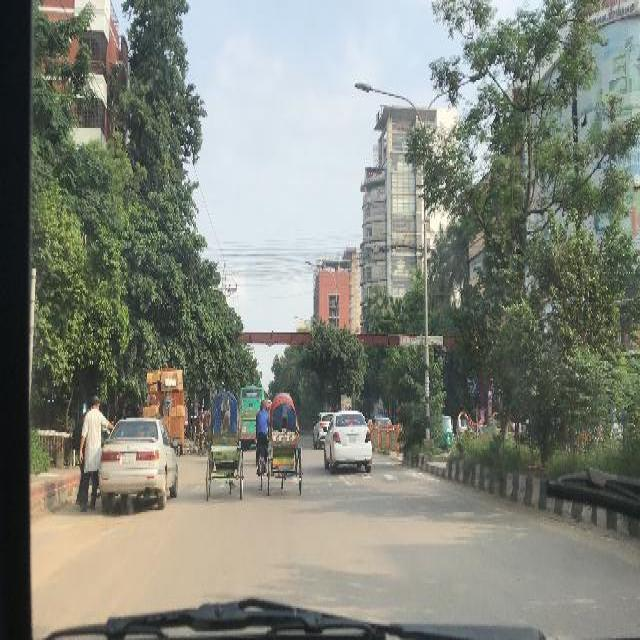bike: (257, 402, 267, 492)
vehicle: (102, 419, 179, 511), (268, 391, 303, 496), (208, 391, 239, 501), (330, 414, 373, 473), (241, 384, 258, 450), (440, 413, 454, 454), (314, 412, 329, 450), (457, 411, 475, 437), (204, 413, 212, 457), (193, 416, 201, 455)
